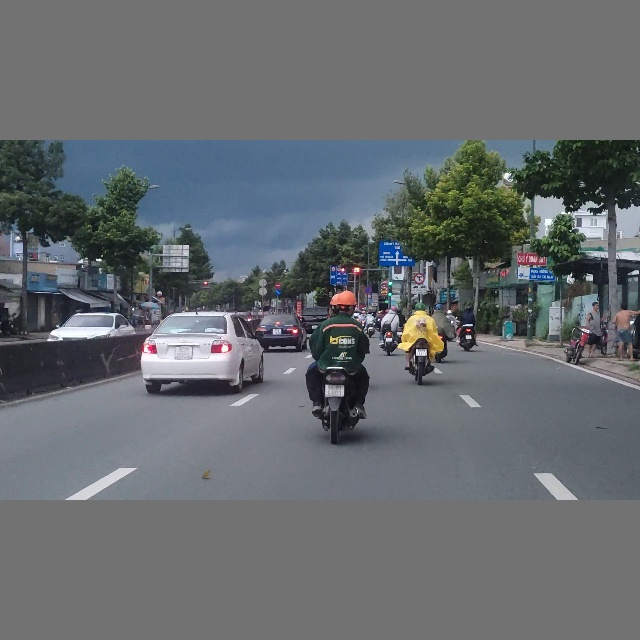P.102: (275, 283, 281, 289)
P.137: (414, 273, 425, 284)
R.302a: (275, 290, 282, 296)
R.415a: (330, 272, 348, 285)
